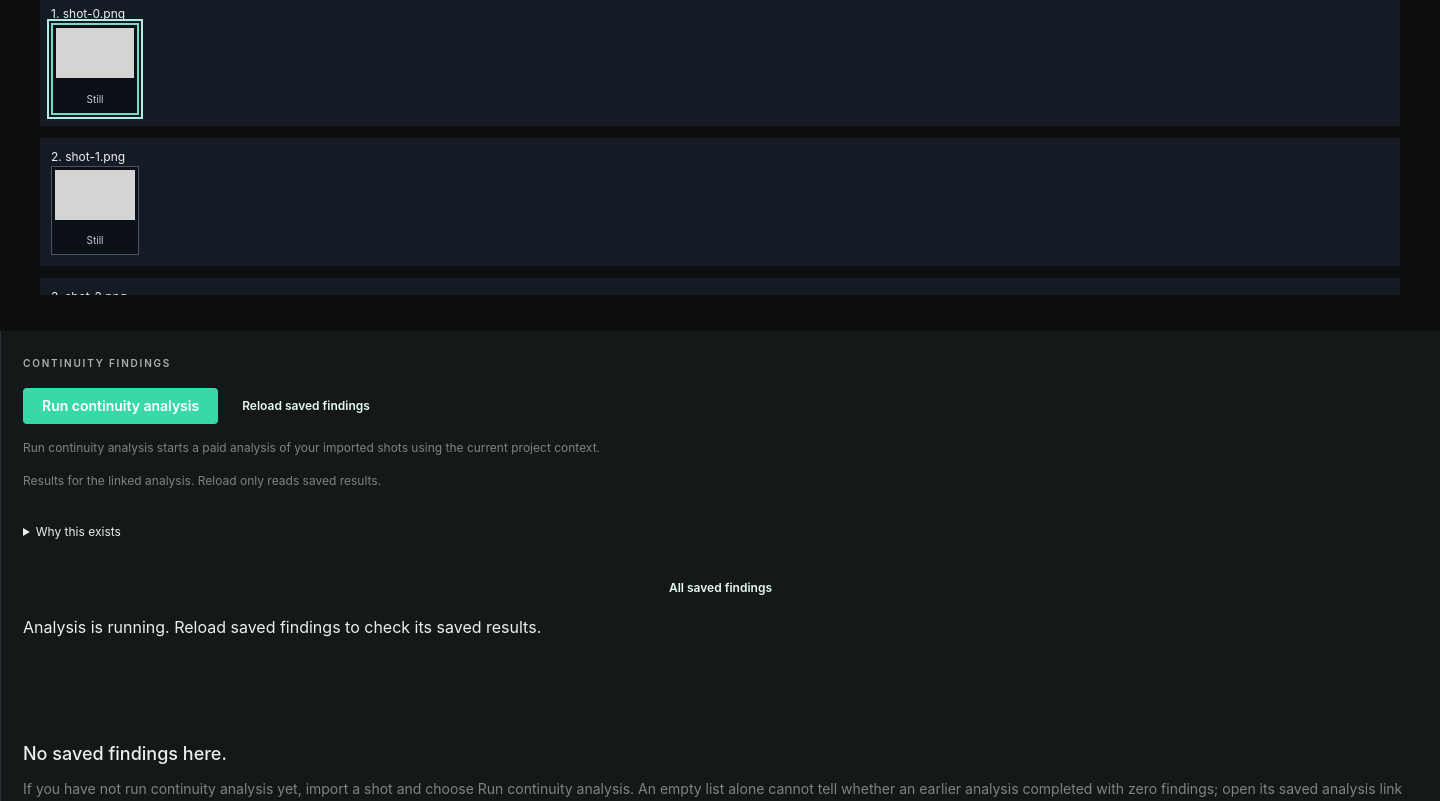
announces running analysis and status lookup failures without retrying analysis
(page scrolled)
Expected: the text "Analysis is running. Reload saved findings to check its saved results." is shown, x1=23 y1=618 x2=541 y2=638
Click the button "Reload saved findings" at (306,406), box x1=234 y1=395 x2=378 y2=417
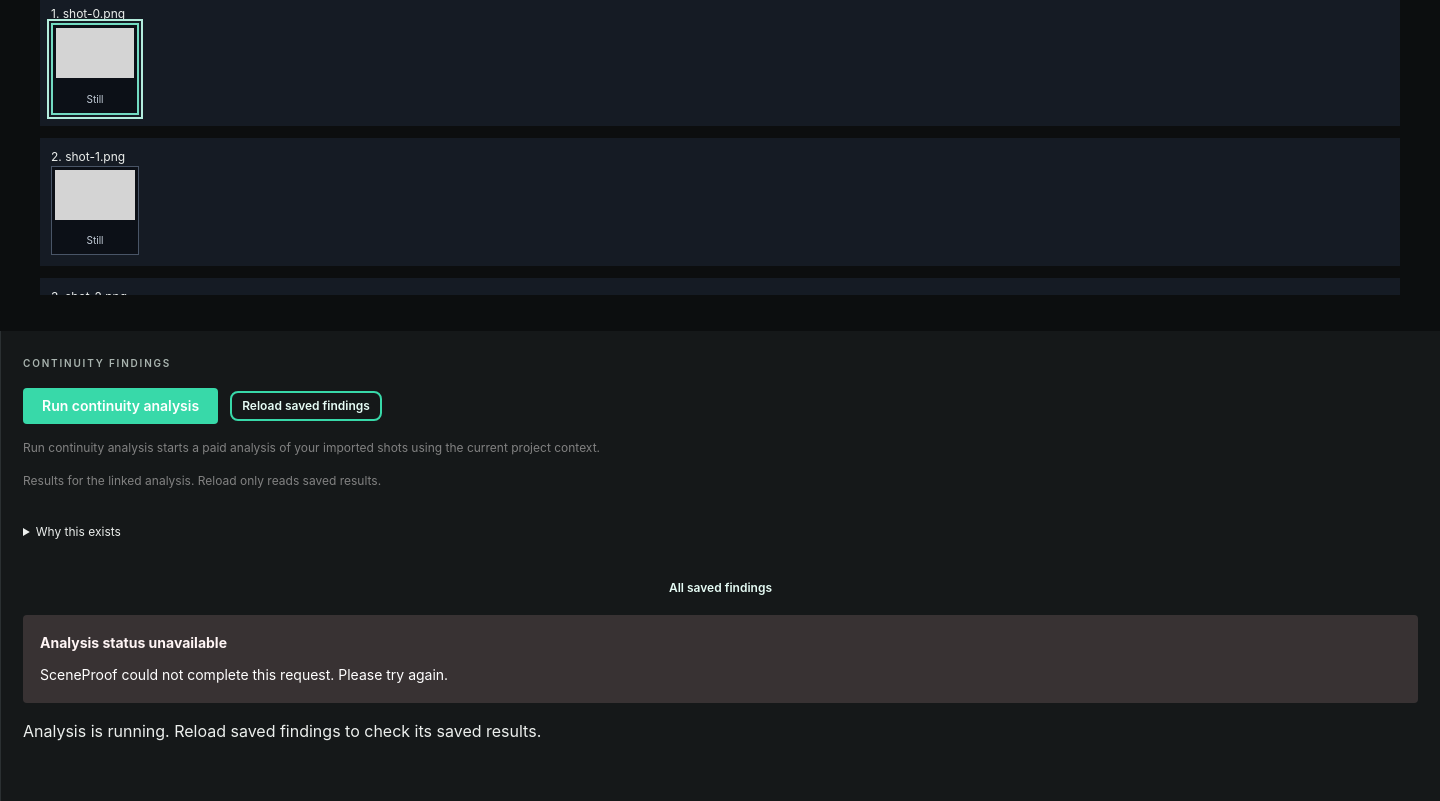
Expected: the message that starts with "Analysis status unavailable" is shown, x1=40 y1=634 x2=227 y2=652
